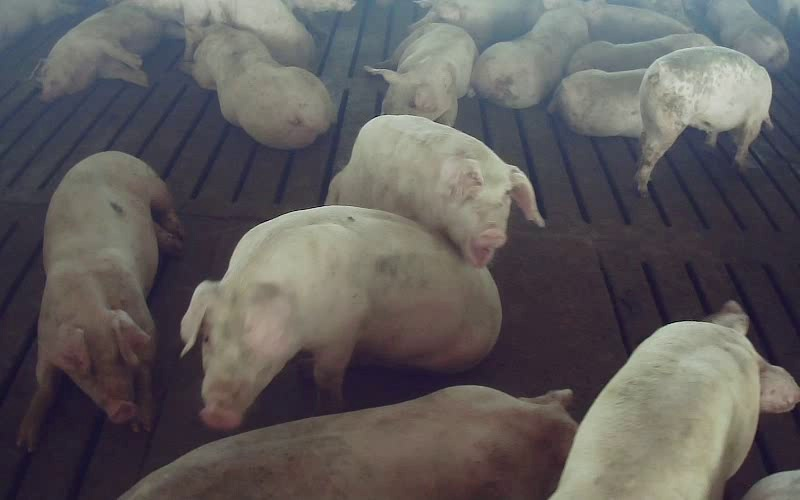pig: (181, 206, 500, 428), (121, 386, 576, 499), (551, 301, 799, 499), (18, 152, 181, 450), (326, 115, 544, 266), (182, 7, 334, 148), (636, 46, 771, 193), (34, 2, 183, 101), (471, 8, 589, 108), (365, 24, 477, 126), (182, 0, 315, 68), (409, 0, 543, 50), (548, 69, 645, 137), (544, 0, 691, 43), (567, 33, 714, 74), (706, 0, 788, 71)
